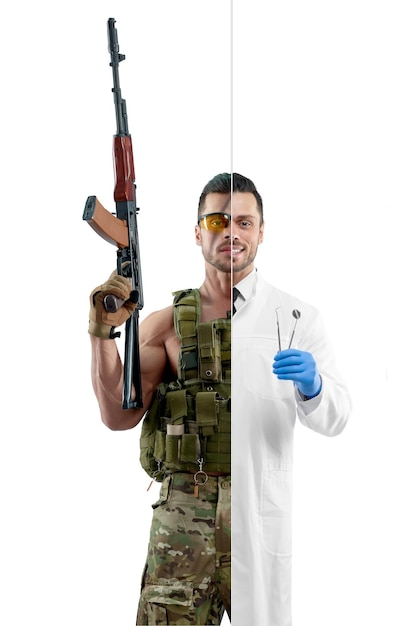gun: (81, 17, 146, 408)
